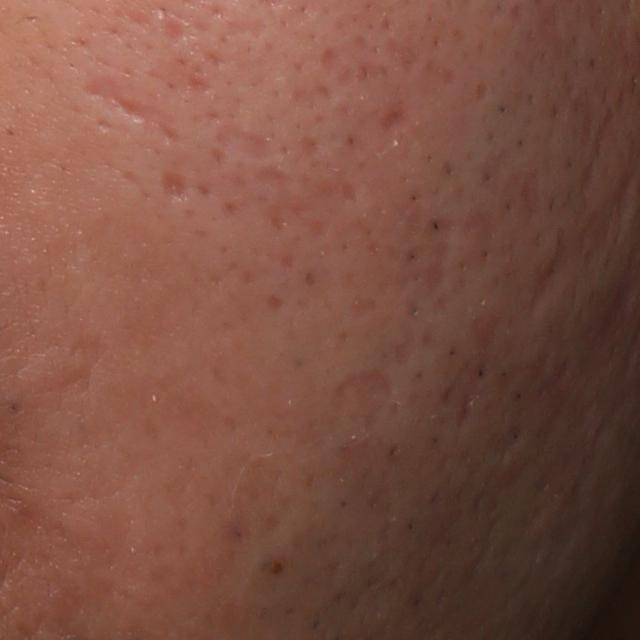atrophic_scar: (522, 229, 574, 309), (87, 69, 156, 124), (339, 365, 401, 424), (219, 123, 285, 161), (371, 94, 416, 132), (224, 16, 273, 43), (157, 165, 188, 201), (162, 13, 194, 46)
